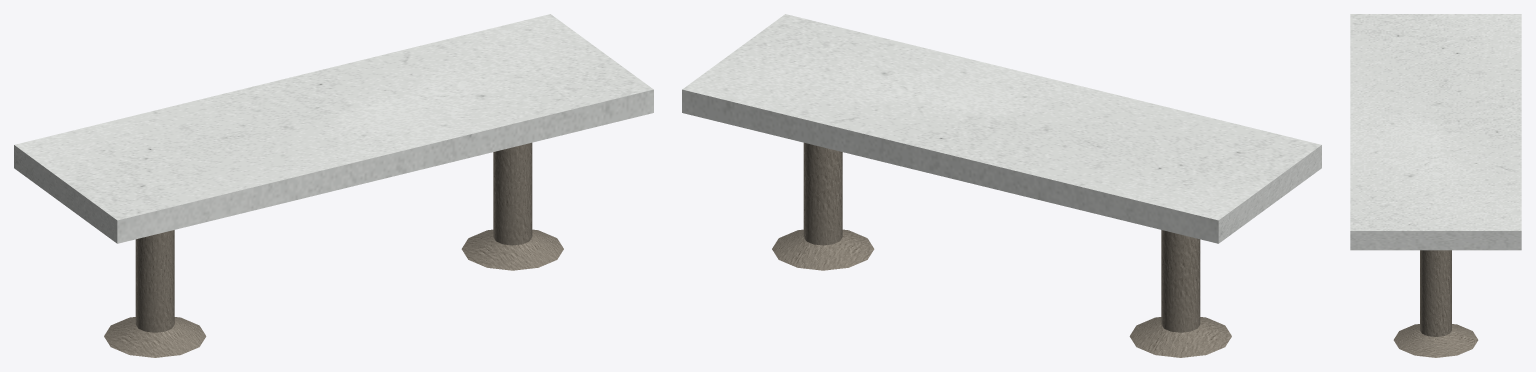
Rendered from DinnerTable.obj.
The picture shows the model from 3 angles, left to right: view 1: azimuth 30°, elevation 25°; view 2: azimuth 150°, elevation 25°; view 3: azimuth 270°, elevation 25°; orthographic projection. The views are drawn at different scales.
Visible parts, largest first — view 1: mesh03, mesh02, mesh01; view 2: mesh03, mesh02, mesh01; view 3: mesh03, mesh02.
Boxes of the visible parts, box(x1,y1,x2,y2) form: mesh03: box(14, 14, 653, 243); mesh02: box(461, 142, 563, 270); mesh01: box(104, 230, 206, 357); mesh03: box(682, 14, 1321, 243); mesh02: box(772, 142, 874, 270); mesh01: box(1129, 230, 1231, 357); mesh03: box(1350, 14, 1521, 250); mesh02: box(1393, 250, 1478, 357).
Bounding box in the file's own units: 12 × 3.75 × 4.
2 materials, 2 textured.
